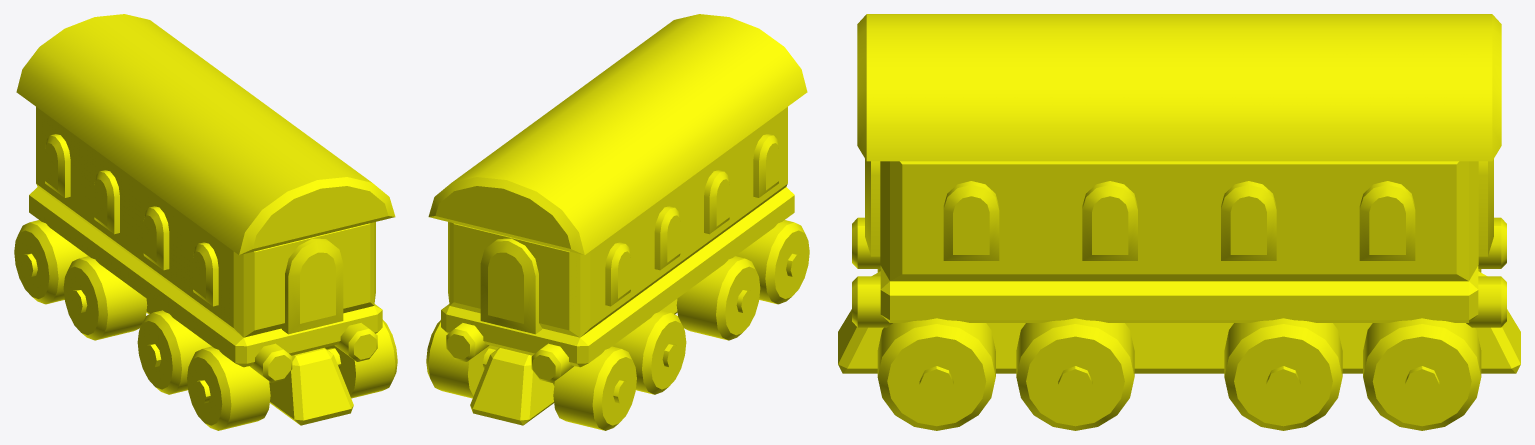
The model's file is kaykit-train-wagon.glb.
3 renders of one model, left to right at view 1: azimuth 30°, elevation 25°; view 2: azimuth 150°, elevation 25°; view 3: azimuth 270°, elevation 25°, orthographic. The views are drawn at different scales.
Parts seen in each view (by area): view 1: train_wagon; view 2: train_wagon; view 3: train_wagon.
Boxes of the visible parts, bbox=[...] form: train_wagon: bbox=[14, 14, 397, 430]; train_wagon: bbox=[426, 14, 809, 430]; train_wagon: bbox=[838, 14, 1520, 430].
Bounding box in the file's own units: 0.4324 × 0.5504 × 0.9847.
